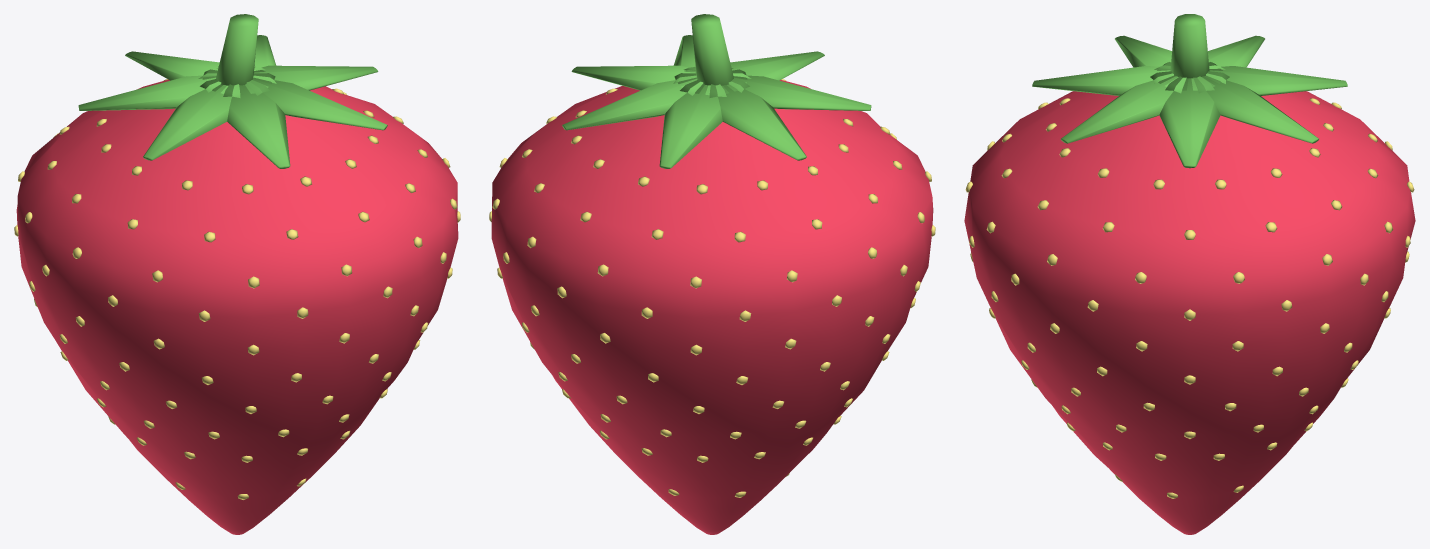
Rendered from Strawberry_Whole.fbx.
3 renders of one model, left to right at view 1: azimuth 30°, elevation 25°; view 2: azimuth 150°, elevation 25°; view 3: azimuth 270°, elevation 25°, orthographic.
Parts seen in each view (by area): view 1: Strawberry_Whole; view 2: Strawberry_Whole; view 3: Strawberry_Whole.
Boxes of the visible parts, x1=… form: Strawberry_Whole: x1=14, y1=14, x2=460, y2=534; Strawberry_Whole: x1=489, y1=14, x2=935, y2=534; Strawberry_Whole: x1=964, y1=14, x2=1415, y2=534.
Bounding box in the file's own units: 0.9577 × 1.21 × 0.9556.
